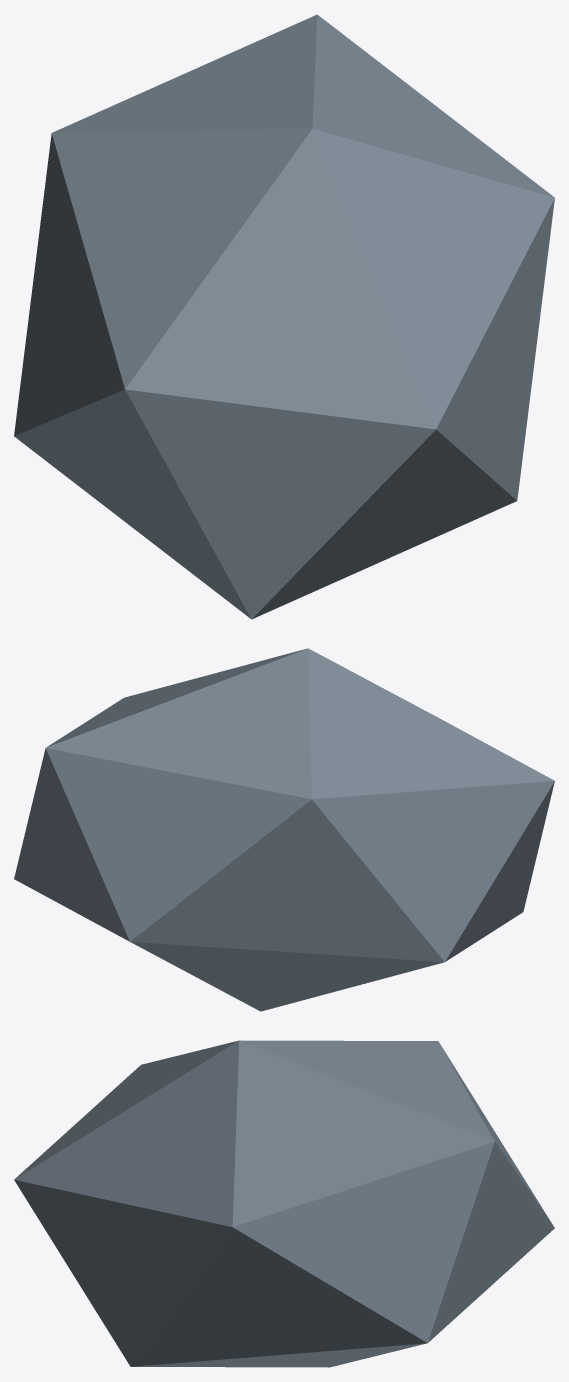
File: INT_C_WallRubble_02_Stone_1.glb
3 views of the same model, one above another, from view 1: azimuth 30°, elevation 25°; view 2: azimuth 150°, elevation 25°; view 3: azimuth 270°, elevation 25° (orthographic). The views are drawn at different scales.
Parts seen in each view (by area): view 1: INT_C_WallRubble_02_Stone_1; view 2: INT_C_WallRubble_02_Stone_1; view 3: INT_C_WallRubble_02_Stone_1.
Part boxes in pixels (bbox=[...]): INT_C_WallRubble_02_Stone_1: bbox=[14, 14, 554, 619]; INT_C_WallRubble_02_Stone_1: bbox=[14, 648, 554, 1011]; INT_C_WallRubble_02_Stone_1: bbox=[14, 1040, 554, 1367].
Bounding box in the file's own units: 0.4186 × 0.3336 × 0.5014.
